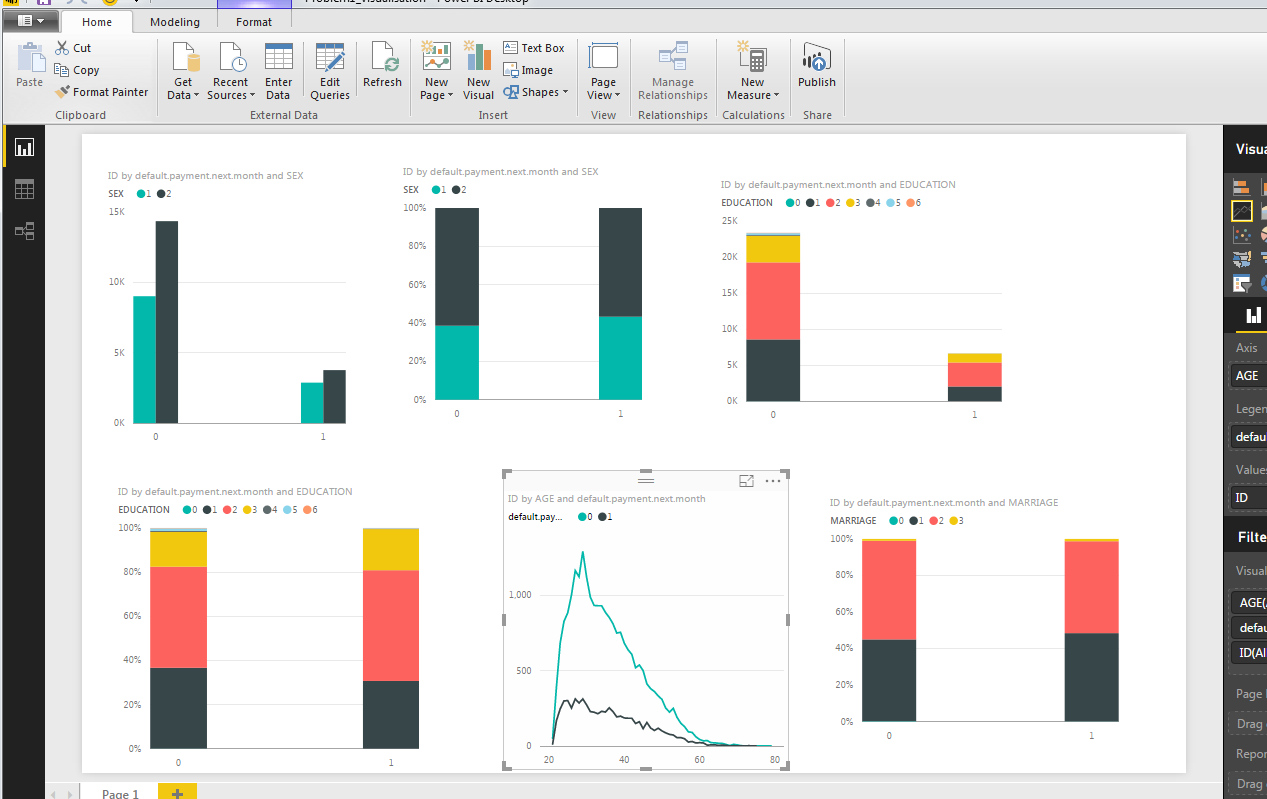

Layout of this report page (visuals, bound fields, positions):
{"tool":"powerbi","page":{"name":"Page 1","canvas":[1280,720],"ordinal":0},"visuals":[{"type":"hundredPercentStackedColumnChart","fields":{"Category":["Problem1_Data.default.payment.next.month"],"Series":["Problem1_Data.SEX"],"Y":["CountNonNull(Problem1_Data.ID)"]},"box":[366.2,10.1,287.3,299.7],"z":3},{"type":"clusteredColumnChart","fields":{"Category":["Problem1_Data.default.payment.next.month"],"Series":["Problem1_Data.SEX"],"Y":["CountNonNull(Problem1_Data.ID)"]},"box":[24.8,14.6,285.1,322.3],"z":3},{"type":"columnChart","fields":{"Category":["Problem1_Data.default.payment.next.month"],"Series":["Problem1_Data.EDUCATION"],"Y":["CountNonNull(Problem1_Data.ID)"]},"box":[734.6,25.9,334.6,286.2],"z":4},{"type":"hundredPercentStackedColumnChart","fields":{"Category":["Problem1_Data.default.payment.next.month"],"Series":["Problem1_Data.EDUCATION"],"Y":["CountNonNull(Problem1_Data.ID)"]},"box":[36.1,381.7,359.4,333.5],"z":5},{"type":"lineChart","fields":{"Category":["Problem1_Data.AGE"],"Series":["Problem1_Data.default.payment.next.month"],"Y":["CountNonNull(Problem1_Data.ID)"]},"box":[487.9,389.9,329,322.3],"z":5},{"type":"hundredPercentStackedColumnChart","fields":{"Category":["Problem1_Data.default.payment.next.month"],"Series":["Problem1_Data.MARRIAGE"],"Y":["CountNonNull(Problem1_Data.ID)"]},"box":[862,394.4,344.8,289.6],"z":6}]}

Visuals, with their boxes on the page's 1280x720 design canvas (x1, y1, x2, y2). These are canvas units, not pixel positions in the 1267x799 screenshot, which may show the page scaled, cropped or inside an application window:
hundredPercentStackedColumnChart - Problem1_Data.default.payment.next.month x Problem1_Data.SEX: locate(366, 10, 654, 310)
clusteredColumnChart - Problem1_Data.default.payment.next.month x Problem1_Data.SEX: locate(25, 15, 310, 337)
columnChart - Problem1_Data.default.payment.next.month x Problem1_Data.EDUCATION: locate(735, 26, 1069, 312)
hundredPercentStackedColumnChart - Problem1_Data.default.payment.next.month x Problem1_Data.EDUCATION: locate(36, 382, 396, 715)
lineChart - Problem1_Data.AGE x Problem1_Data.default.payment.next.month: locate(488, 390, 817, 712)
hundredPercentStackedColumnChart - Problem1_Data.default.payment.next.month x Problem1_Data.MARRIAGE: locate(862, 394, 1207, 684)
